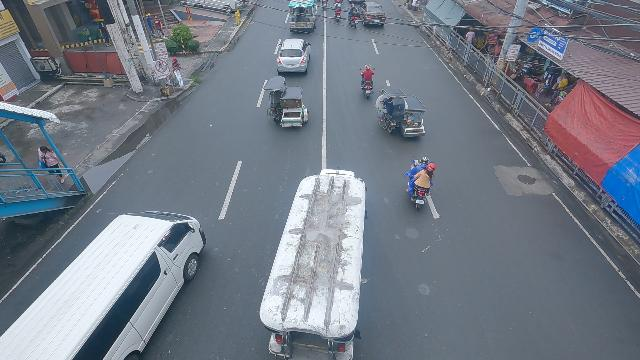car: (275, 37, 311, 74), (358, 1, 386, 27)
jeepney: (257, 166, 369, 360), (287, 0, 317, 33)
motorcycle: (405, 156, 435, 208), (360, 72, 374, 98), (347, 10, 358, 28), (334, 4, 343, 20)
van: (0, 206, 209, 360)
